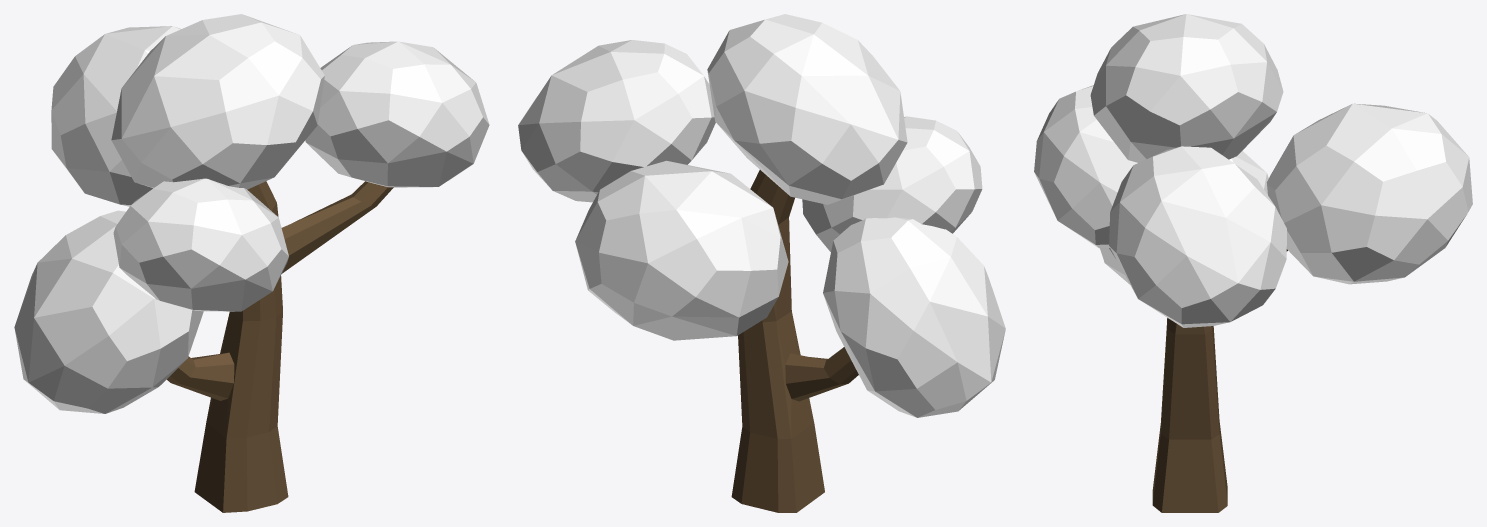
The model's file is Tree_10.fbx.
The picture shows the model from 3 angles, left to right: view 1: azimuth 30°, elevation 25°; view 2: azimuth 150°, elevation 25°; view 3: azimuth 270°, elevation 25°; orthographic projection.
Parts seen in each view (by area): view 1: Tree_10; view 2: Tree_10; view 3: Tree_10.
Part boxes in pixels (left/top/right/bottom): Tree_10: left=14, top=14, right=489, bottom=512; Tree_10: left=518, top=14, right=1005, bottom=512; Tree_10: left=1034, top=14, right=1472, bottom=512.
Bounding box in the file's own units: 170 × 167 × 142.
